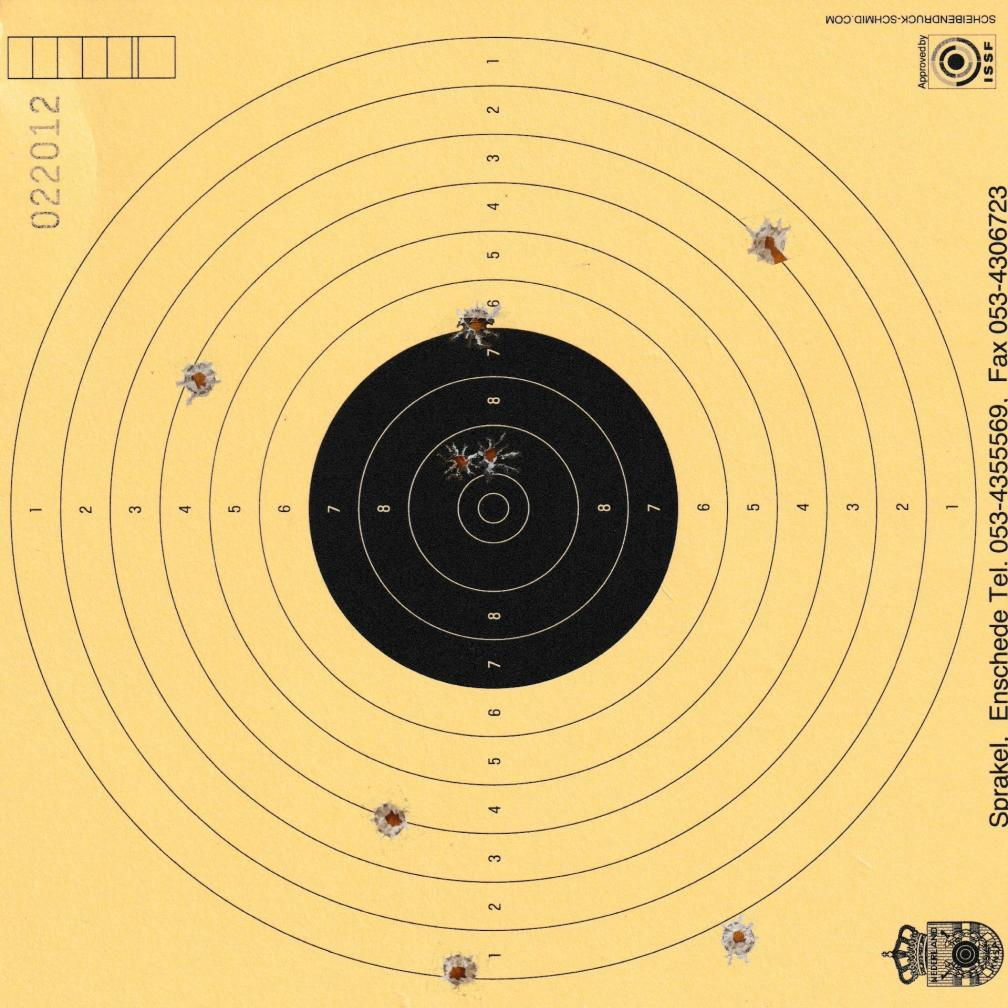0: (714, 914, 766, 968)
1: (437, 946, 481, 994)
10: (466, 430, 524, 485)
3: (744, 211, 795, 268)
4: (168, 351, 227, 407), (371, 798, 412, 843)
7: (453, 301, 506, 353)
9: (437, 433, 484, 486)
Target: (7, 32, 982, 984)
black_contour: (306, 326, 679, 689)
